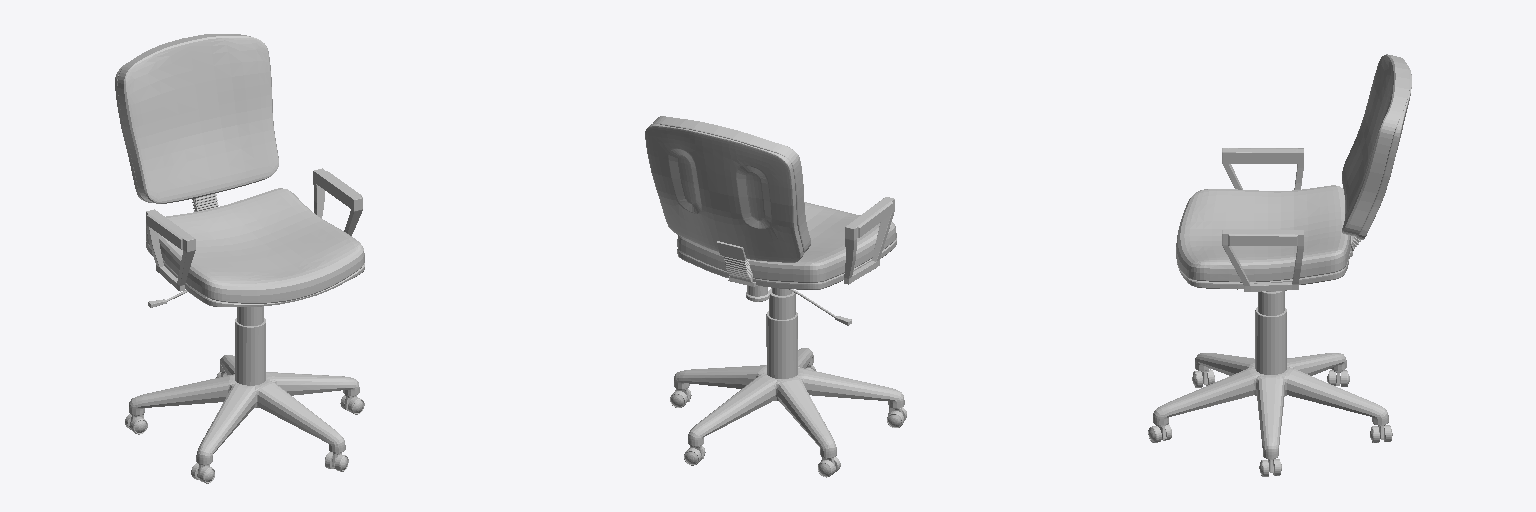
The model's file is officeChair.obj.
3 views of the same model, side by side, from view 1: azimuth 30°, elevation 25°; view 2: azimuth 150°, elevation 25°; view 3: azimuth 270°, elevation 25° (orthographic).
Visible parts, largest first — view 1: Object.36, Object.35, Object.8, Object.5, Object.11, Object.6, Object.1; view 2: Object.4, Object.8, Object.35, Object.36, Object.5, Object.11, Object.1, Object.12; view 3: Object.35, Object.8, Object.36, Object.6, Object.11, Object.5, Object.4, Object.1, Object.12.
Part boxes in pixels (left/top/right/bottom): Object.36: left=117, top=34, right=278, bottom=203; Object.35: left=146, top=188, right=364, bottom=303; Object.8: left=129, top=355, right=359, bottom=464; Object.5: left=146, top=209, right=195, bottom=291; Object.11: left=235, top=318, right=265, bottom=385; Object.6: left=313, top=168, right=362, bottom=235; Object.1: left=146, top=242, right=364, bottom=306; Object.4: left=645, top=124, right=803, bottom=262; Object.8: left=674, top=348, right=904, bottom=457; Object.35: left=677, top=202, right=896, bottom=282; Object.36: left=653, top=116, right=810, bottom=252; Object.5: left=844, top=197, right=894, bottom=284; Object.11: left=766, top=311, right=797, bottom=378; Object.1: left=677, top=238, right=896, bottom=289; Object.12: left=769, top=288, right=795, bottom=319; Object.35: left=1176, top=185, right=1350, bottom=282; Object.8: left=1153, top=353, right=1388, bottom=458; Object.36: left=1342, top=54, right=1409, bottom=236; Object.6: left=1222, top=230, right=1303, bottom=291; Object.11: left=1255, top=307, right=1286, bottom=374; Object.5: left=1222, top=148, right=1303, bottom=189; Object.4: left=1357, top=58, right=1411, bottom=239; Object.1: left=1177, top=254, right=1349, bottom=289; Object.12: left=1258, top=291, right=1284, bottom=315.
Bounding box in the file's own units: 542 × 902 × 617.